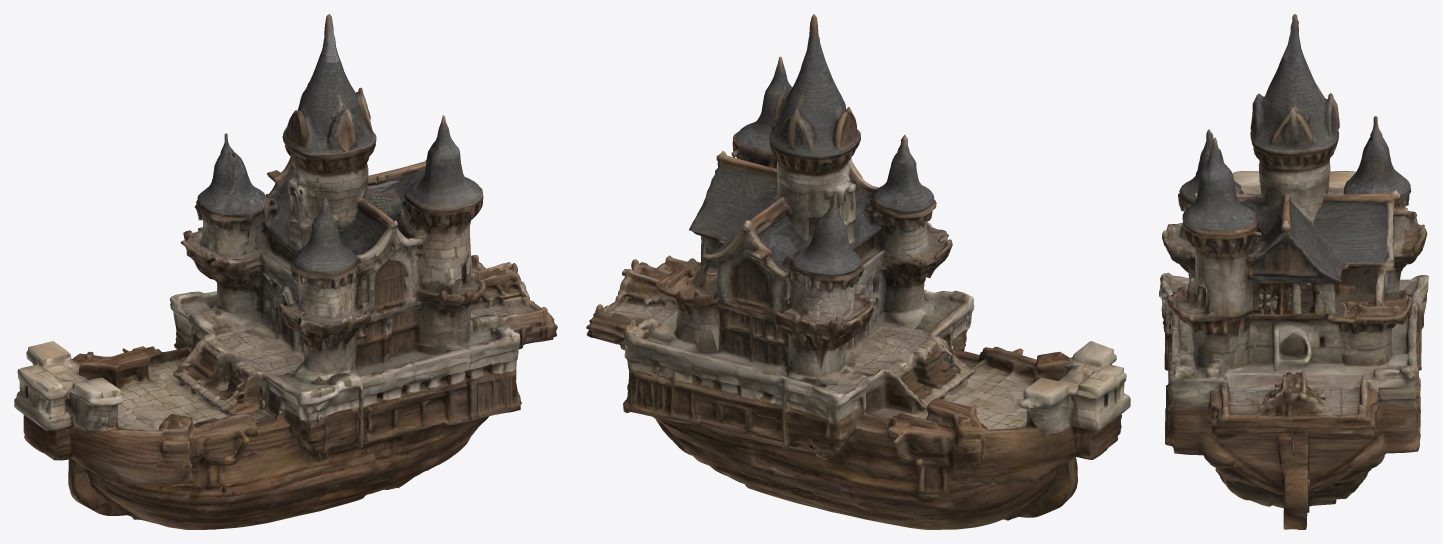
Rendered from Castle_Boat_Diorama.glb.
3 renders of one model, left to right at view 1: azimuth 30°, elevation 25°; view 2: azimuth 150°, elevation 25°; view 3: azimuth 270°, elevation 25°, orthographic.
Parts seen in each view (by area): view 1: Castle_Boat_Diorama; view 2: Castle_Boat_Diorama; view 3: Castle_Boat_Diorama.
Boxes of the visible parts, x1,y1,x2,y2 form: Castle_Boat_Diorama: (14,14,557,529); Castle_Boat_Diorama: (586,14,1130,529); Castle_Boat_Diorama: (1159,14,1428,529).
Size of the model in its own units: 1.99 by 1.83 by 0.9702.
1 material, 1 textured.
